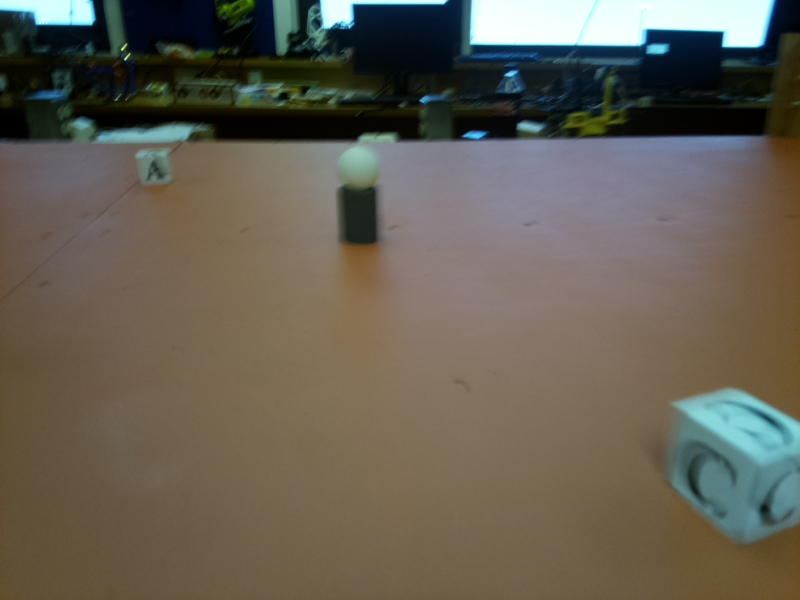blockA: (139, 150, 173, 186)
blockC: (664, 391, 800, 542)
obstacle: (340, 147, 380, 243)
